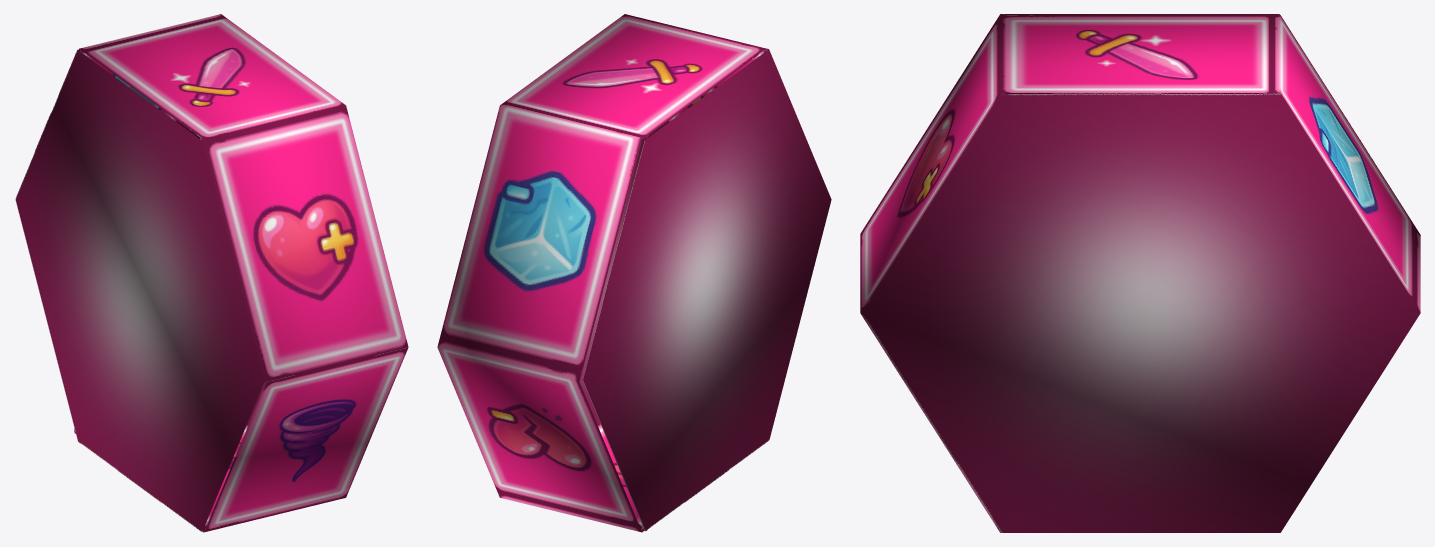
File: kolotocka.fbx
The picture shows the model from 3 angles, left to right: view 1: azimuth 30°, elevation 25°; view 2: azimuth 150°, elevation 25°; view 3: azimuth 270°, elevation 25°; orthographic projection. The views are drawn at different scales.
Visible parts, largest first — view 1: Valec2; view 2: Valec2; view 3: Valec2.
Part boxes in pixels (x1=…): Valec2: x1=15, y1=14, x2=408, y2=532; Valec2: x1=437, y1=14, x2=831, y2=532; Valec2: x1=860, y1=14, x2=1420, y2=532.
Bounding box in the file's own units: 26.33 × 68.42 × 79.
